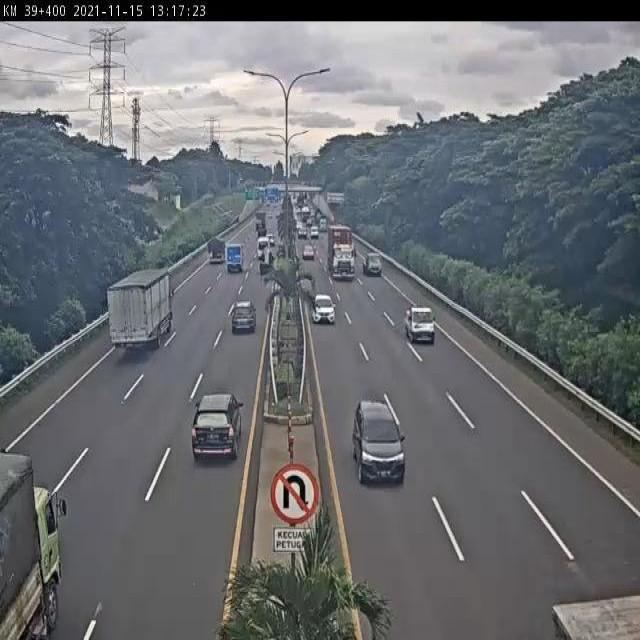car: (352, 399, 408, 484), (192, 392, 244, 468), (228, 297, 261, 339), (311, 292, 338, 325)
truck-l-: (0, 449, 63, 640), (533, 582, 640, 640)
truck-m-: (107, 267, 175, 353)
truck-s-: (404, 304, 437, 344), (222, 241, 247, 272), (205, 237, 229, 267), (257, 248, 276, 279), (364, 248, 384, 275)
truck-xl-: (324, 220, 357, 281)
